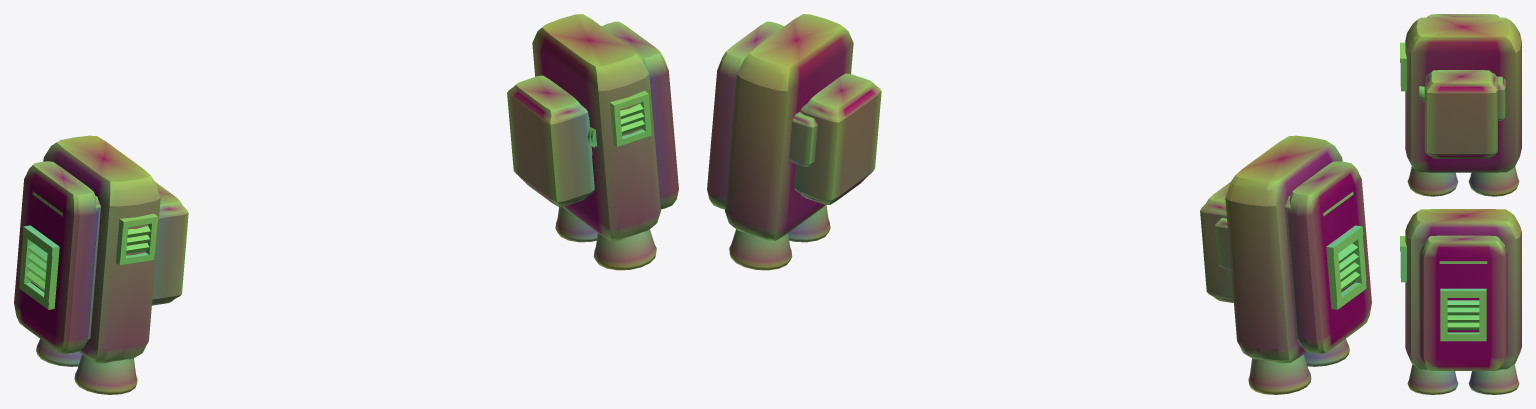
File: llm_gen_leg_thrusters_067_56abb8.glb
3 renders of one model, left to right at view 1: azimuth 30°, elevation 25°; view 2: azimuth 150°, elevation 25°; view 3: azimuth 270°, elevation 25°, orthographic. The views are drawn at different scales.
Parts seen in each view (by area): view 1: greave_pylon_0_barrel_metal_r, greave_pylon_0_barrel_metal_l, lateral_binder_shroud_2_titanium_silver_l, adapter_calf_clamp_r, lateral_binder_shroud_2_titanium_silver_r, adapter_calf_clamp_l, ankle_vector_bell_b_7_vernier_bell_vernier_l, ankle_vector_bell_b_7_vernier_bell_vernier_r, adapter_sub_binder_side_vent_3_dark_l, adapter_sub_greave_intake_grille_5_dark_l, adapter_sub_greave_intake_grille_5_dark_r, ankle_vector_bell_a_6_vernier_bell_vernier_r (+3 smaller); view 2: greave_pylon_0_barrel_metal_r, greave_pylon_0_barrel_metal_l, lateral_binder_shroud_2_titanium_silver_l, adapter_calf_clamp_r, lateral_binder_shroud_2_titanium_silver_r, adapter_calf_clamp_l, ankle_vector_bell_a_6_vernier_bell_vernier_l, ankle_vector_bell_a_6_vernier_bell_vernier_r, adapter_sub_binder_side_vent_3_dark_l, adapter_leg_tank_collar_dark_10_adapter_dark_r, ankle_vector_bell_b_7_vernier_bell_vernier_r, binder_side_vent_3_gold_l (+2 smaller); view 3: greave_pylon_0_barrel_metal_l, lateral_binder_shroud_2_titanium_silver_r, greave_pylon_0_barrel_metal_r, adapter_calf_clamp_l, adapter_sub_binder_side_vent_3_dark_r, ankle_vector_bell_a_6_vernier_bell_vernier_r, ankle_vector_bell_b_7_vernier_bell_vernier_r, ankle_vector_bell_a_6_vernier_bell_vernier_l, ankle_vector_bell_b_7_vernier_bell_vernier_l, binder_side_vent_3_gold_r, adapter_leg_tank_collar_dark_10_adapter_dark_l, adapter_sub_greave_intake_grille_5_dark_l (+3 smaller).
Part boxes in pixels (x1=…): greave_pylon_0_barrel_metal_r: x1=532, y1=14, x2=660, y2=240; greave_pylon_0_barrel_metal_l: x1=43, y1=135, x2=160, y2=363; lateral_binder_shroud_2_titanium_silver_l: x1=14, y1=161, x2=98, y2=353; adapter_calf_clamp_r: x1=507, y1=75, x2=594, y2=206; lateral_binder_shroud_2_titanium_silver_r: x1=601, y1=21, x2=678, y2=209; adapter_calf_clamp_l: x1=152, y1=182, x2=188, y2=305; ankle_vector_bell_b_7_vernier_bell_vernier_l: x1=74, y1=354, x2=137, y2=394; ankle_vector_bell_b_7_vernier_bell_vernier_r: x1=593, y1=229, x2=656, y2=270; adapter_sub_binder_side_vent_3_dark_l: x1=19, y1=225, x2=59, y2=309; adapter_sub_greave_intake_grille_5_dark_l: x1=116, y1=213, x2=158, y2=265; adapter_sub_greave_intake_grille_5_dark_r: x1=610, y1=91, x2=651, y2=146; ankle_vector_bell_a_6_vernier_bell_vernier_r: x1=555, y1=207, x2=597, y2=242; greave_pylon_0_barrel_metal_r: x1=725, y1=14, x2=853, y2=240; greave_pylon_0_barrel_metal_l: x1=1225, y1=135, x2=1342, y2=363; lateral_binder_shroud_2_titanium_silver_l: x1=1287, y1=161, x2=1371, y2=353; adapter_calf_clamp_r: x1=794, y1=73, x2=881, y2=204; lateral_binder_shroud_2_titanium_silver_r: x1=707, y1=21, x2=784, y2=209; adapter_calf_clamp_l: x1=1200, y1=182, x2=1233, y2=302; ankle_vector_bell_a_6_vernier_bell_vernier_l: x1=1248, y1=354, x2=1311, y2=394; ankle_vector_bell_a_6_vernier_bell_vernier_r: x1=729, y1=229, x2=792, y2=270; adapter_sub_binder_side_vent_3_dark_l: x1=1326, y1=225, x2=1366, y2=309; adapter_leg_tank_collar_dark_10_adapter_dark_r: x1=789, y1=111, x2=817, y2=166; ankle_vector_bell_b_7_vernier_bell_vernier_r: x1=788, y1=204, x2=830, y2=242; binder_side_vent_3_gold_l: x1=1338, y1=243, x2=1360, y2=291; greave_pylon_0_barrel_metal_l: x1=1405, y1=17, x2=1521, y2=172; lateral_binder_shroud_2_titanium_silver_r: x1=1419, y1=235, x2=1507, y2=370; greave_pylon_0_barrel_metal_r: x1=1405, y1=209, x2=1521, y2=369; adapter_calf_clamp_l: x1=1424, y1=70, x2=1497, y2=158; adapter_sub_binder_side_vent_3_dark_r: x1=1440, y1=288, x2=1486, y2=341; ankle_vector_bell_a_6_vernier_bell_vernier_r: x1=1468, y1=364, x2=1519, y2=394; ankle_vector_bell_b_7_vernier_bell_vernier_r: x1=1407, y1=364, x2=1458, y2=394; ankle_vector_bell_a_6_vernier_bell_vernier_l: x1=1468, y1=166, x2=1519, y2=196; ankle_vector_bell_b_7_vernier_bell_vernier_l: x1=1407, y1=166, x2=1458, y2=196; binder_side_vent_3_gold_r: x1=1447, y1=300, x2=1479, y2=330; adapter_leg_tank_collar_dark_10_adapter_dark_l: x1=1497, y1=76, x2=1505, y2=120; adapter_sub_greave_intake_grille_5_dark_l: x1=1400, y1=42, x2=1406, y2=91.
Size of the model in its own units: 86.2 by 27.72 by 18.25.
